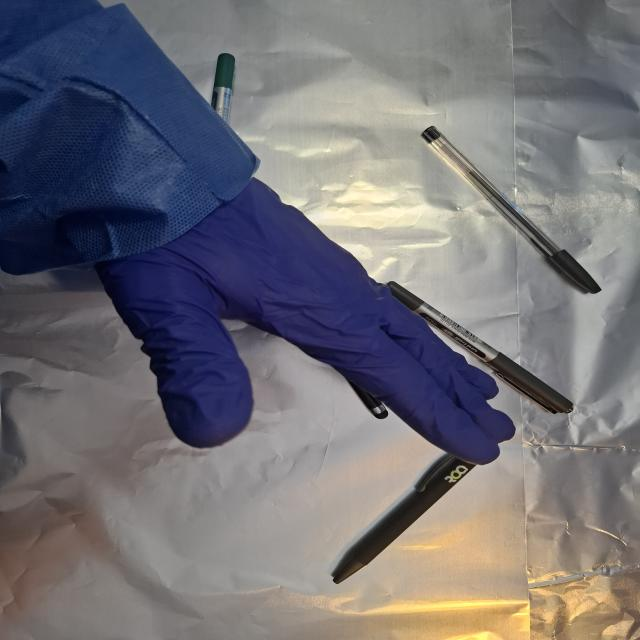glove_on: (91, 171, 519, 467)
